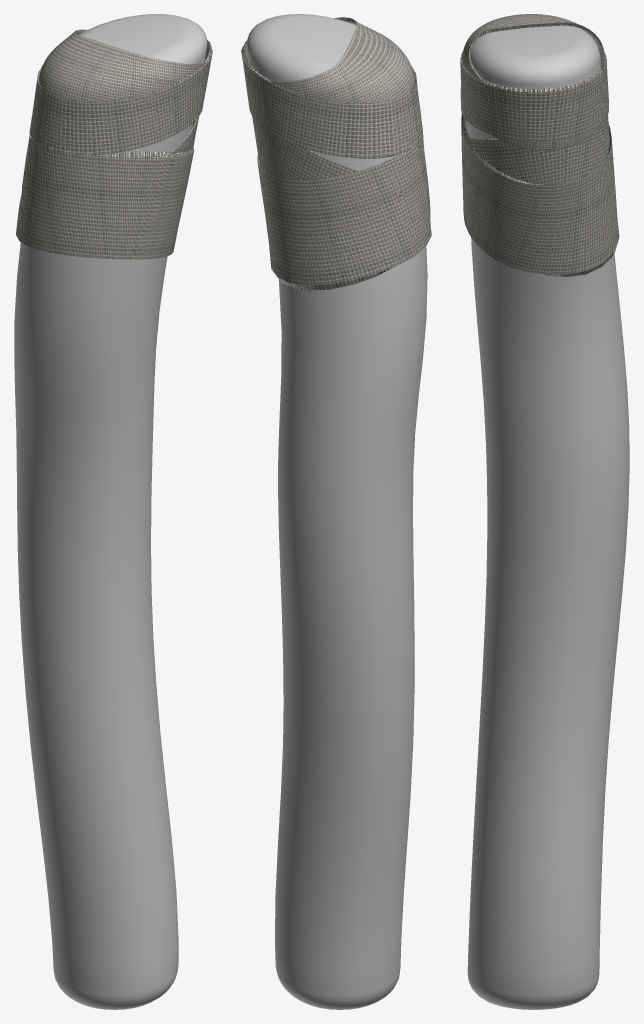
The model's file is Torche.fbx.
The picture shows the model from 3 angles, left to right: view 1: azimuth 30°, elevation 25°; view 2: azimuth 150°, elevation 25°; view 3: azimuth 270°, elevation 25°; orthographic projection. The views are drawn at different scales.
Visible parts, largest first — view 1: Torche, Bande4.001, Bande3.001, Bande2.001; view 2: Torche, Bande4.001, Bande3.001, Bande2.001, Bande1.001; view 3: Torche, Bande4.001, Bande3.001, Bande1.001, Bande2.001.
Part boxes in pixels (bbox=[...]): Torche: bbox=[14, 14, 207, 1009]; Bande4.001: bbox=[16, 134, 194, 259]; Bande3.001: bbox=[29, 40, 212, 155]; Bande2.001: bbox=[39, 29, 207, 101]; Torche: bbox=[246, 14, 427, 1009]; Bande4.001: bbox=[257, 126, 431, 290]; Bande3.001: bbox=[241, 41, 422, 158]; Bande2.001: bbox=[252, 17, 414, 134]; Bande1.001: bbox=[253, 122, 424, 237]; Torche: bbox=[467, 25, 629, 1009]; Bande4.001: bbox=[461, 114, 619, 276]; Bande3.001: bbox=[460, 51, 608, 141]; Bande1.001: bbox=[467, 116, 609, 185]; Bande2.001: bbox=[462, 14, 605, 150].
Bounding box in the file's own units: 9.97 × 51.69 × 8.16.
